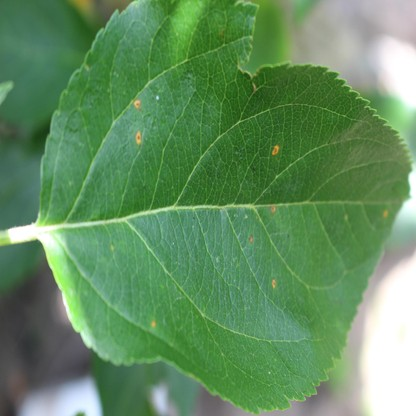rust: (134, 131, 141, 145), (133, 98, 139, 109), (271, 145, 278, 154), (248, 234, 254, 244), (150, 319, 157, 327), (271, 277, 276, 288), (271, 204, 276, 212), (384, 209, 388, 218)
